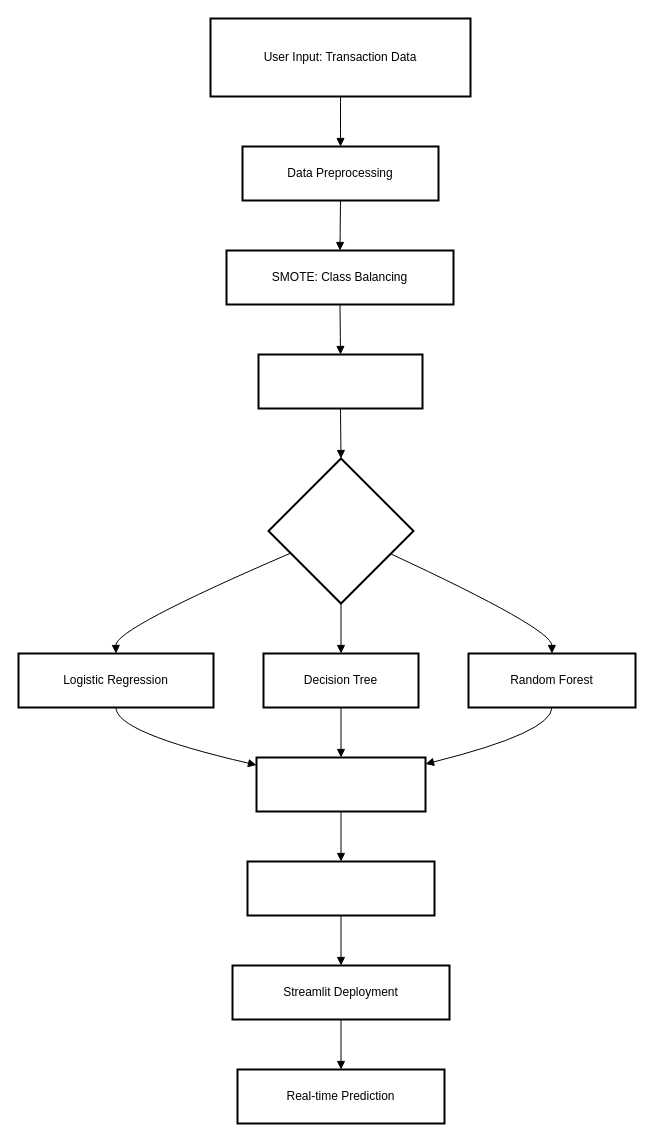
The diagram is 653 pixels wide and 1141 high, and some of its shapes have lost their labels. Here are the shapes that lost their labels. From the top down, the box of each, then its label:
(257, 353, 423, 409): Model Training
(267, 457, 414, 604): Select Model
(255, 756, 426, 812): Evaluate Model
(246, 860, 435, 916): Select Best Model
